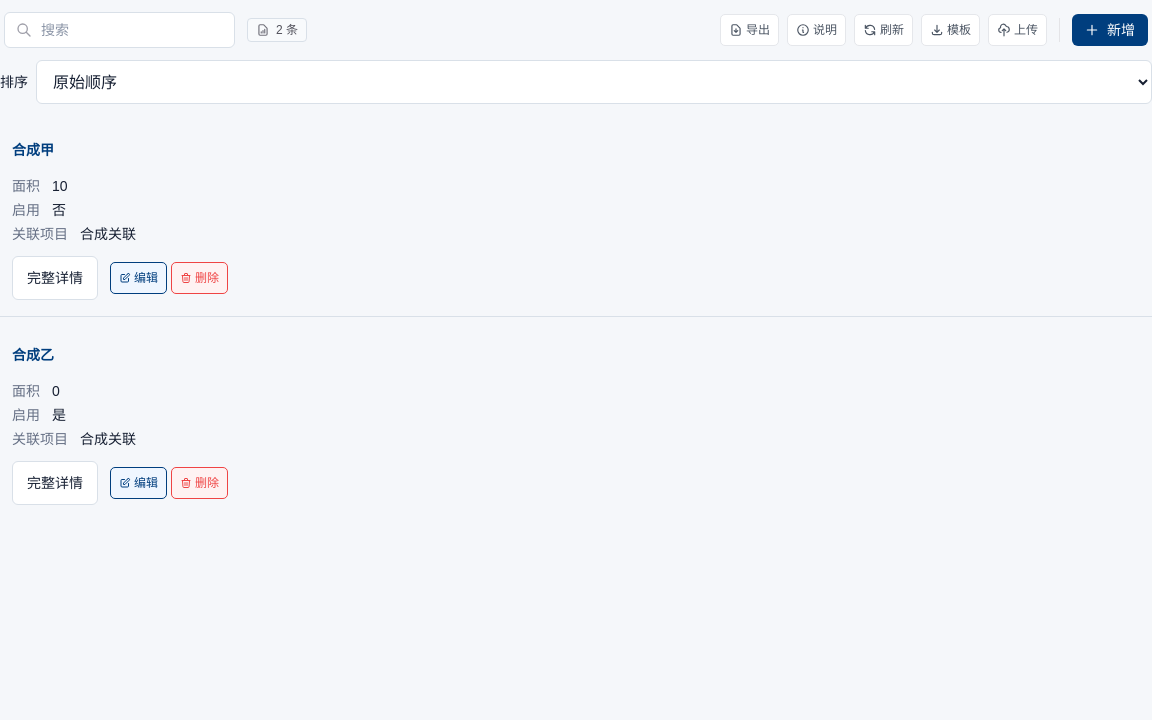
Test: mobile record controller and confirmation › continues editing or explicitly discards, without mutating saved list values
Check: the button "合成甲" is shown, box top-left (12, 128), bottom-right (1140, 172)
Click the button "编辑" below "10": (138, 278) top-left (110, 262), bottom-right (167, 294)
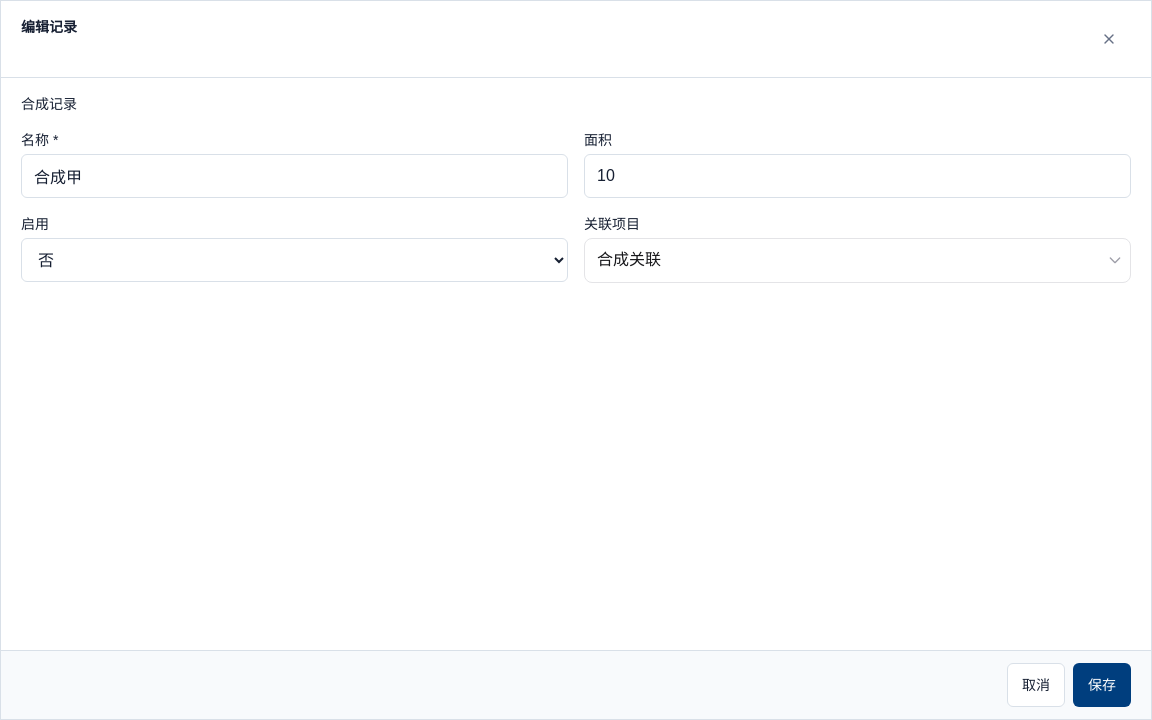
Replace the text in the field labelled "名称 *" with "未保存名称": (294, 176) top-left (21, 154), bottom-right (568, 198)
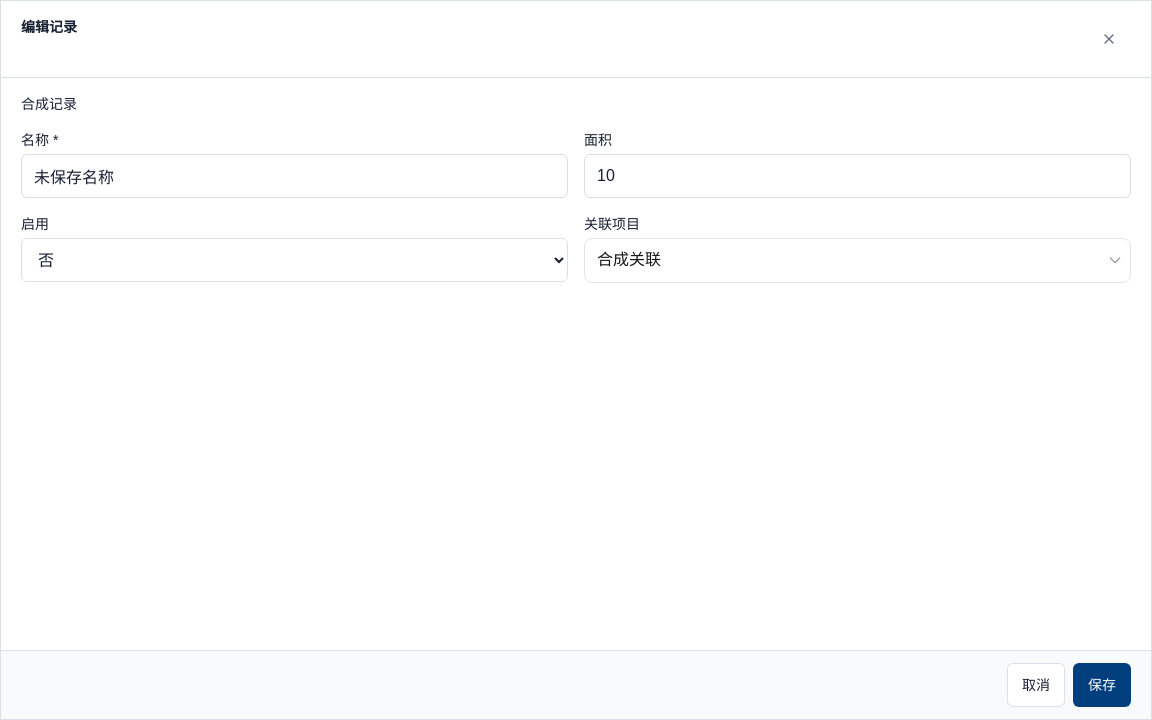
Click the button "取消": (1036, 685) top-left (1007, 663), bottom-right (1065, 707)
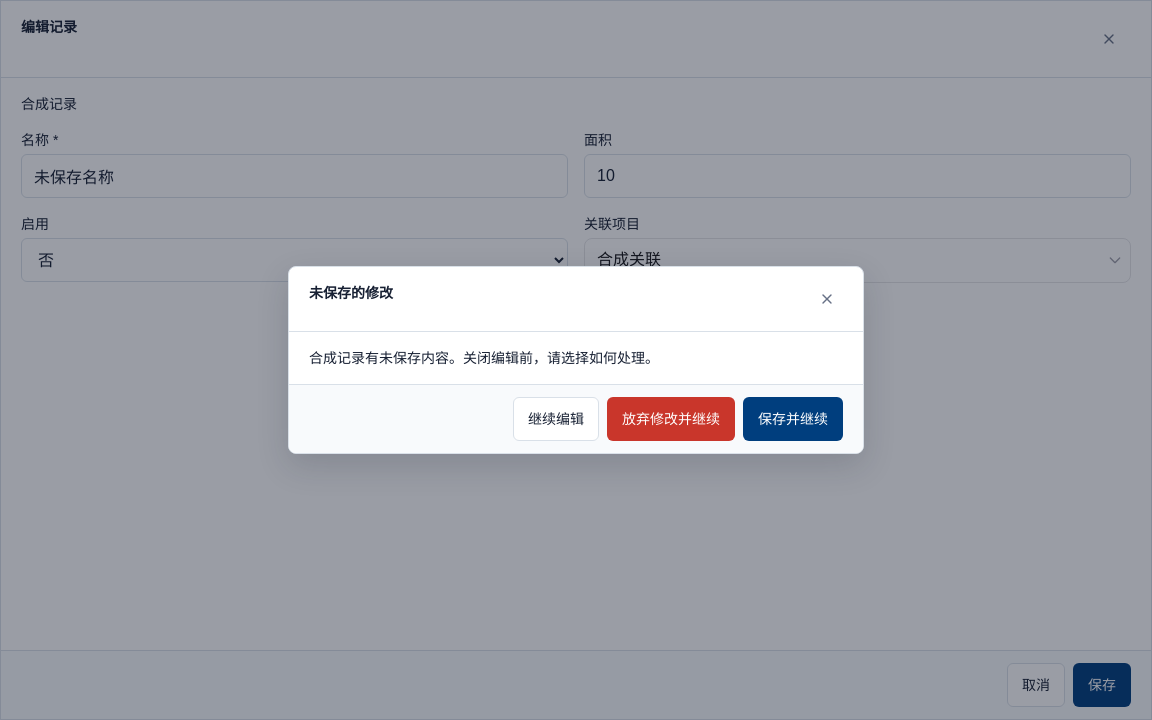
Click the button "继续编辑": (556, 419) top-left (513, 397), bottom-right (599, 441)
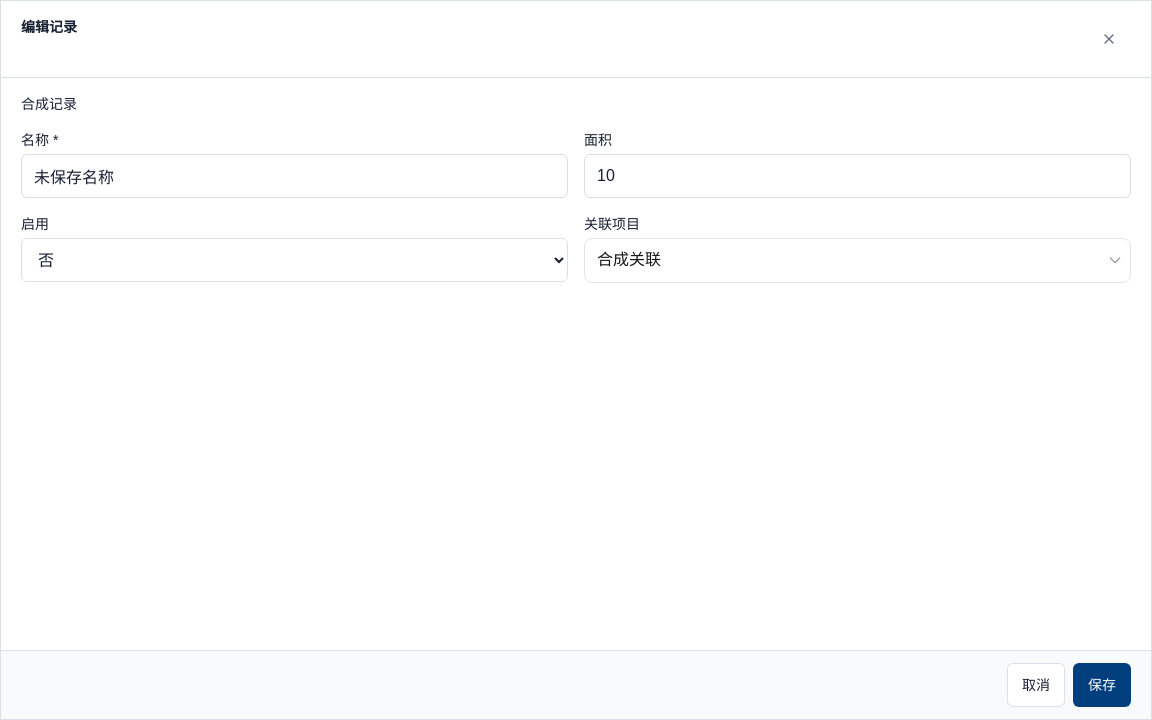
Check: the heading "未保存的修改" is gone
Click the button "取消": (1036, 685) top-left (1007, 663), bottom-right (1065, 707)
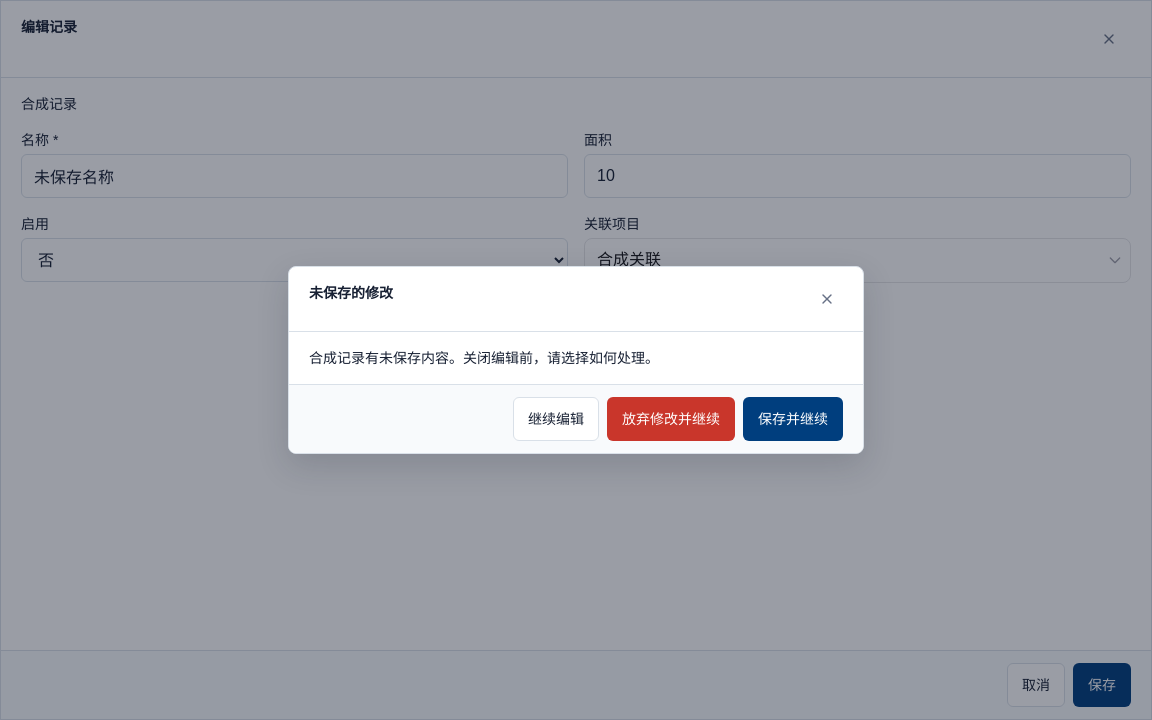
Click the button "放弃修改并继续": (671, 419) top-left (607, 397), bottom-right (735, 441)
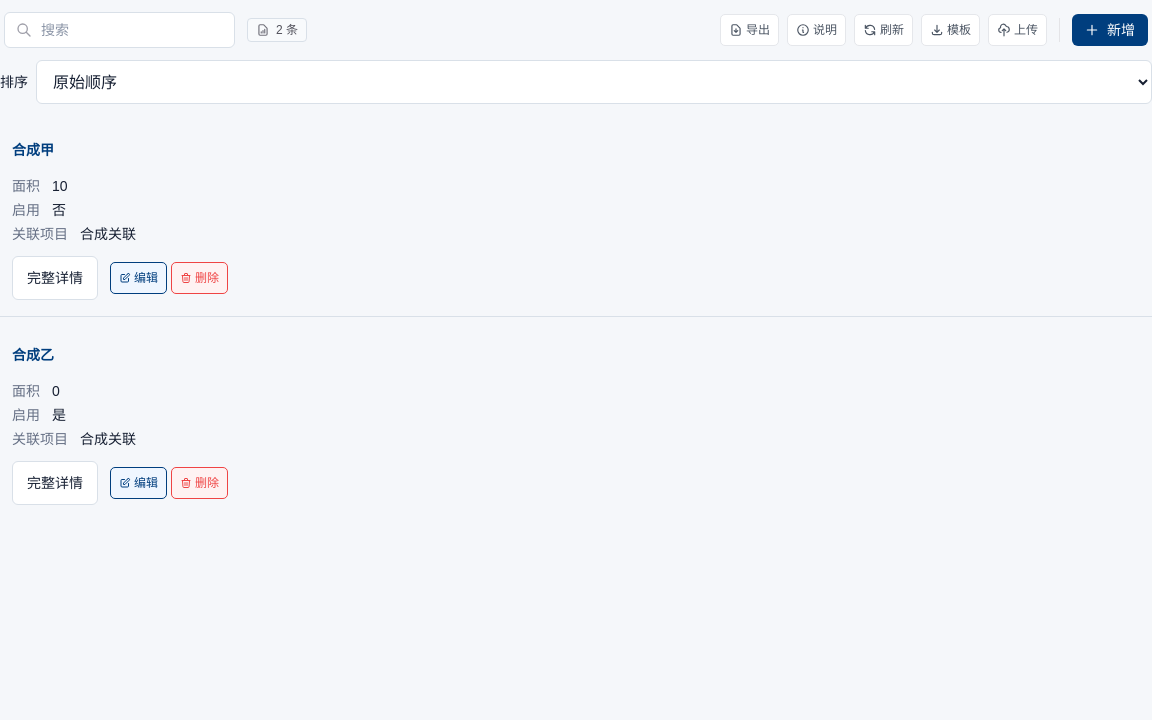
Check: the button "合成甲" is shown, box top-left (12, 128), bottom-right (1140, 172)
Check: the heading "编辑记录" is gone
